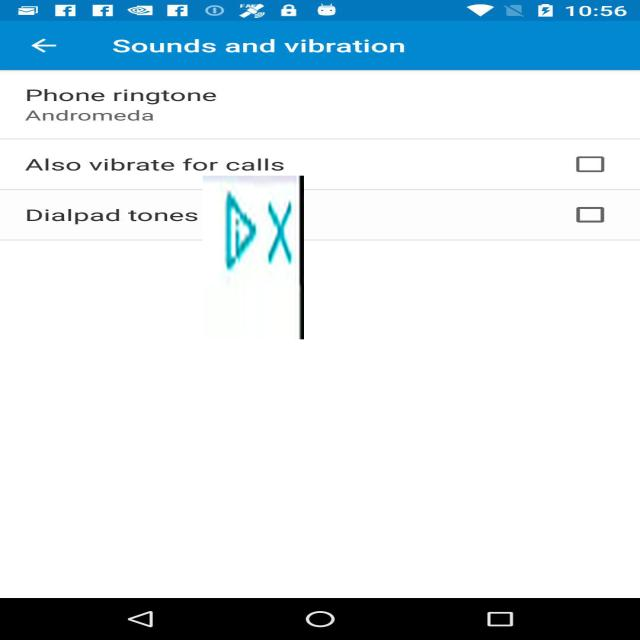sneaking: (203, 176, 304, 339)
